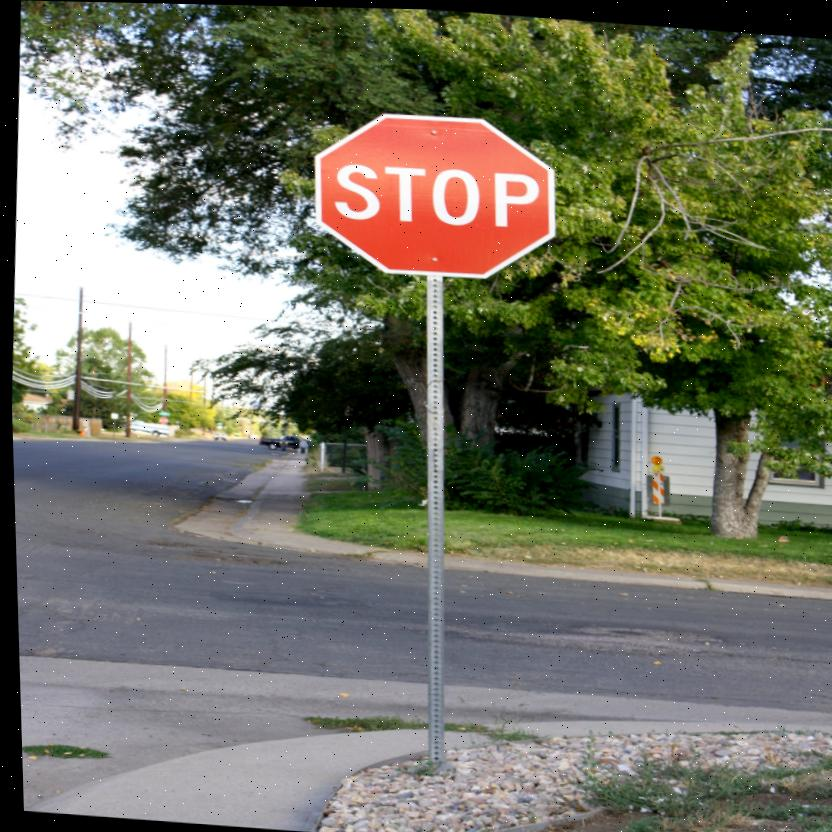Pole: (398, 275, 465, 767)
Sign: (309, 105, 559, 283)
